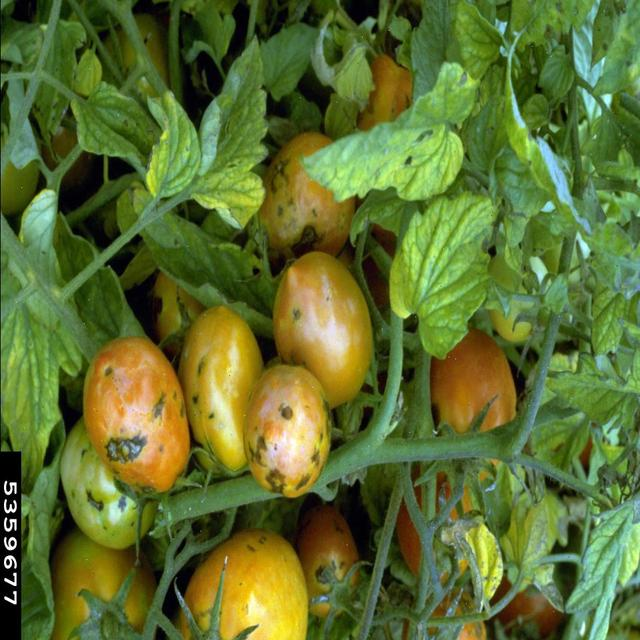Spotted wilt Virus Fruit: (40, 67, 257, 391)
